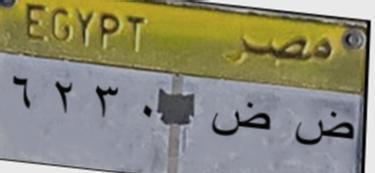0: (132, 98, 160, 126)
2: (50, 76, 80, 115)
3: (89, 81, 123, 125)
6: (10, 72, 38, 114)
daad: (208, 91, 276, 144), (292, 107, 357, 156)
